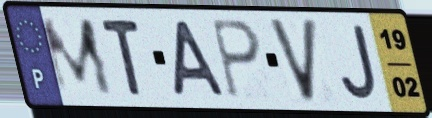A: (172, 18, 229, 99)
J: (338, 22, 381, 103)
M: (36, 15, 117, 98)
P: (208, 17, 264, 102)
T: (97, 16, 146, 99)
V: (265, 16, 320, 106)
